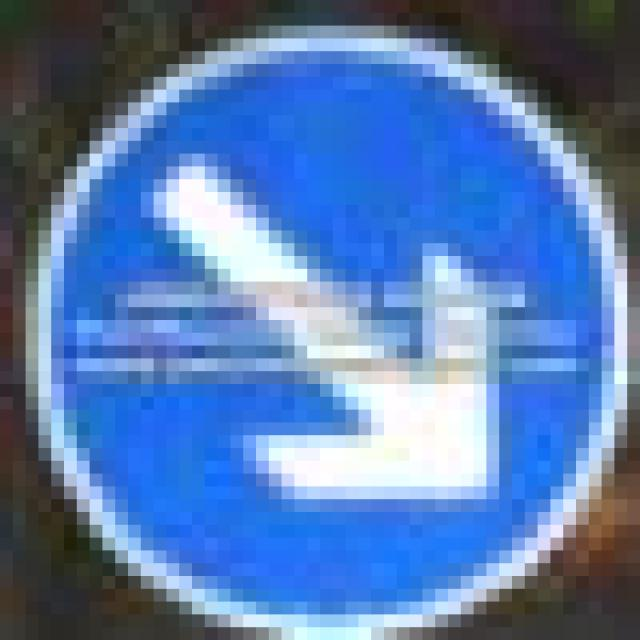COMPULSARY_KEEP_RIGHT: (13, 13, 627, 627)
